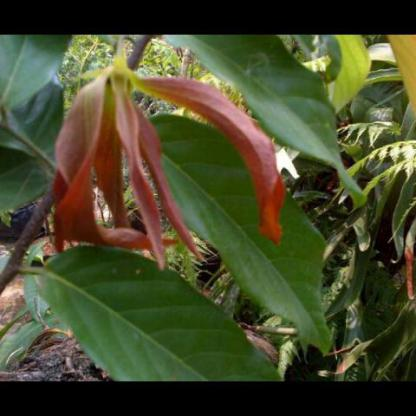Kenanga: (41, 52, 240, 269)
